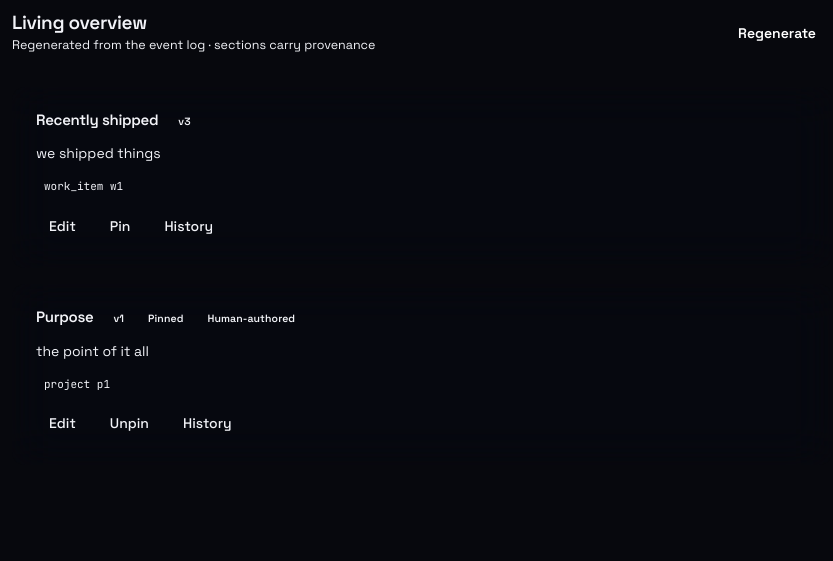
Scenario: OverviewTab › history expander renders the diff of the latest two revisions (OVW-2)
Click the button "History" below "work_item": click(189, 226) [151,209,226,244]
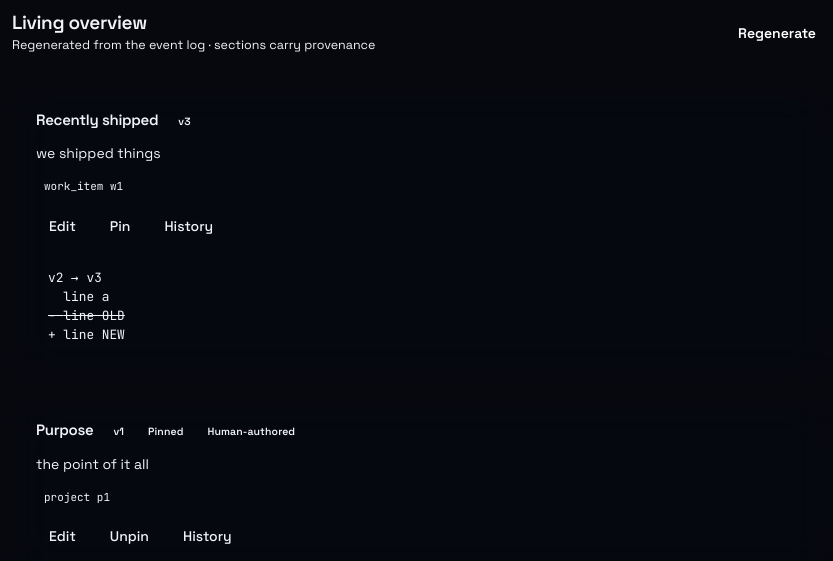
Check: the text "+ line NEW" is shown, box [48,326,125,343]
Check: the text "- line OLD" is shown, box [48,307,125,324]
